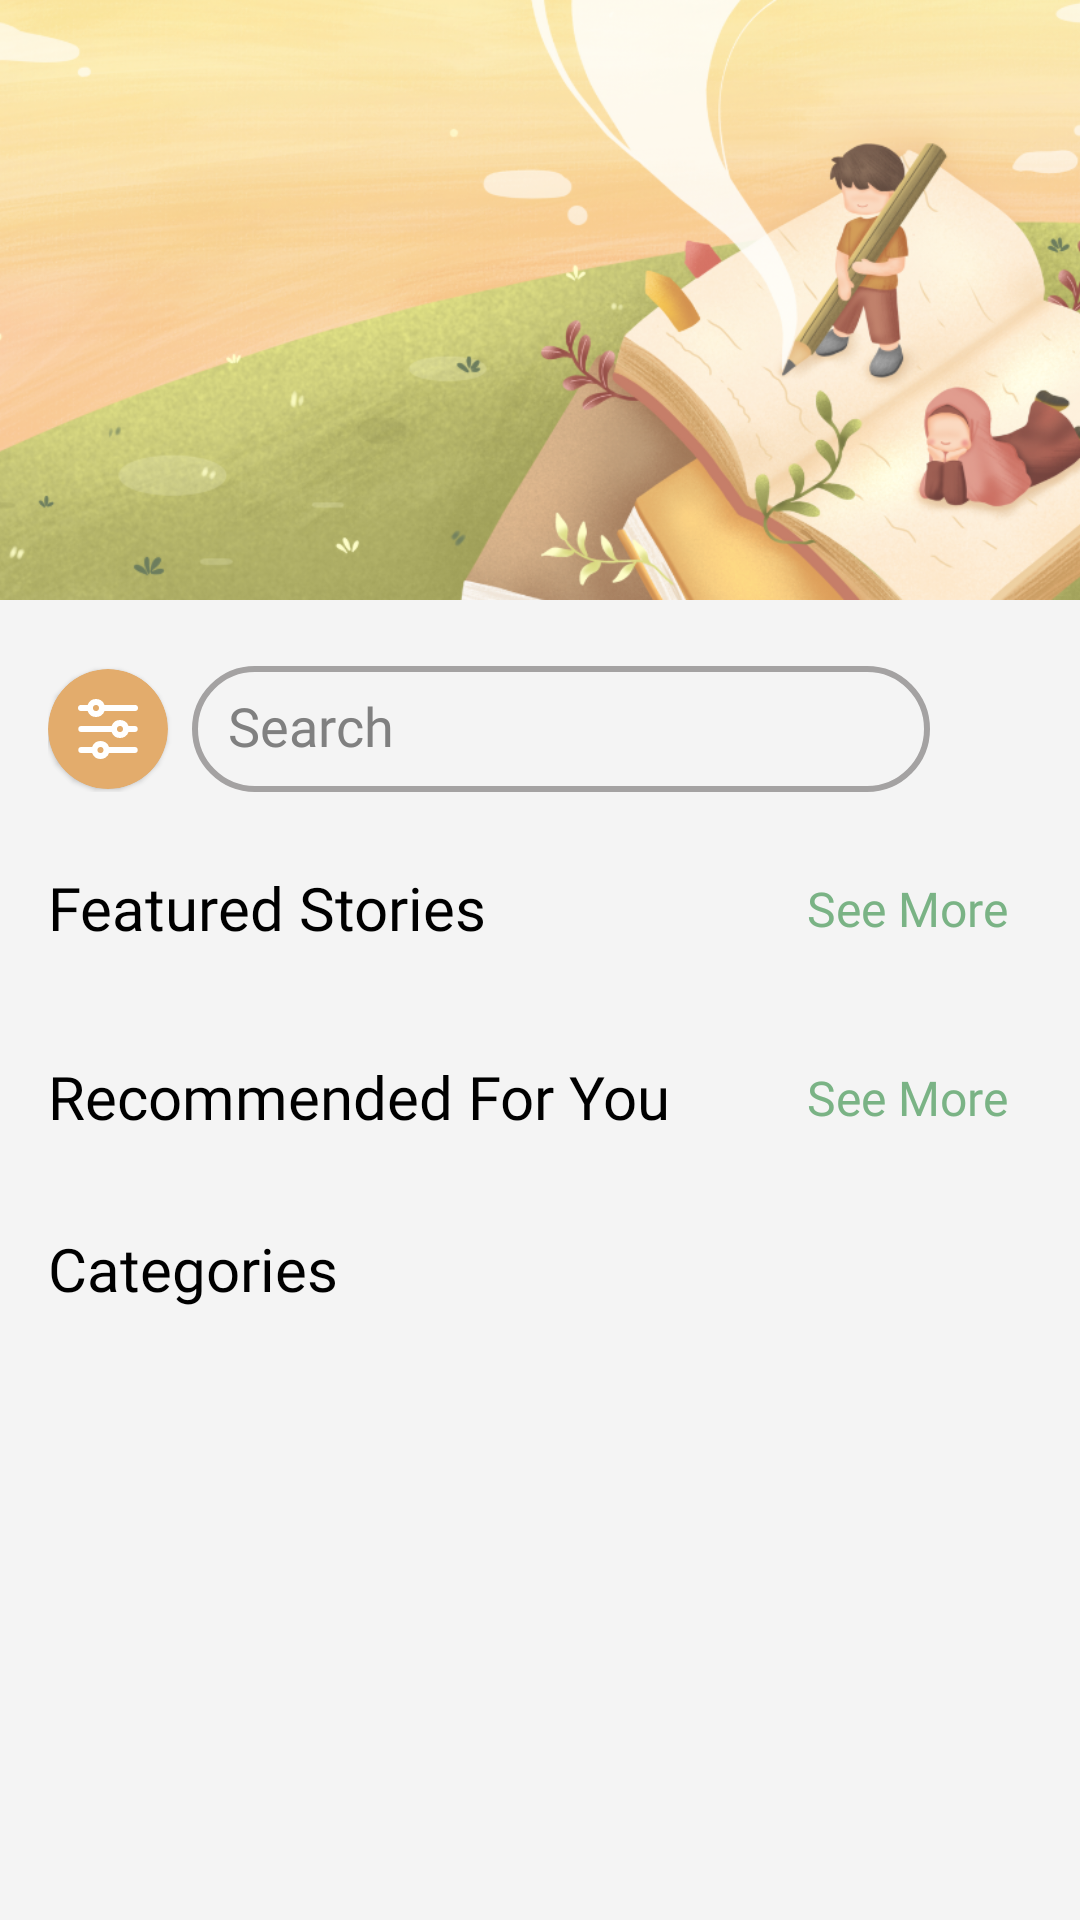

Icon click points for this 1080 × 1920 phone screenshot, format [x,y]:
Filter Icon: [108,729]
